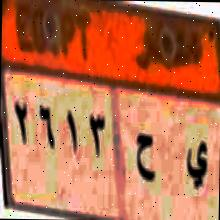1: (62, 97, 82, 163)
2: (11, 94, 30, 146)
3: (88, 107, 108, 159)
6: (36, 102, 56, 154)
7aa: (134, 126, 156, 188)
yaa: (182, 134, 210, 194)
